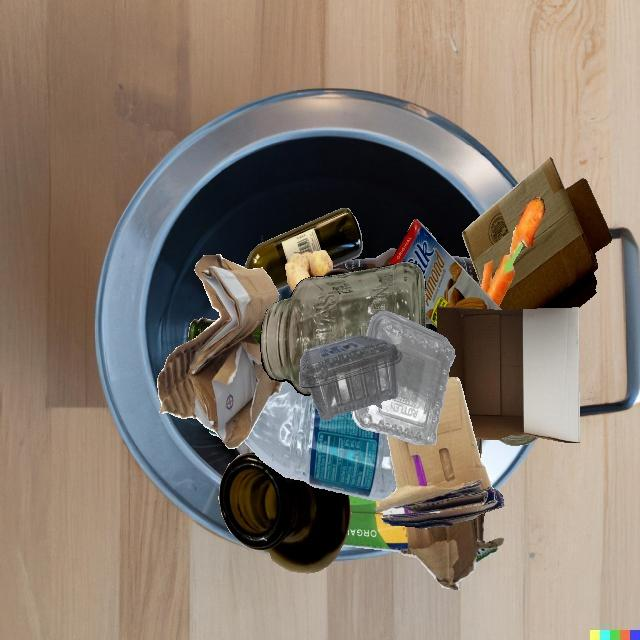biowaste: (481, 197, 545, 307), (285, 250, 333, 292)
cardboard: (157, 254, 284, 449), (462, 157, 612, 310), (376, 377, 505, 529), (437, 306, 579, 442), (342, 495, 505, 590), (388, 219, 501, 329)
glass: (260, 261, 426, 395), (219, 452, 351, 573), (243, 208, 363, 290), (337, 268, 481, 316), (333, 248, 397, 270), (188, 318, 216, 341), (498, 434, 539, 446), (323, 267, 367, 277), (252, 325, 262, 344)
plastic: (244, 381, 397, 501), (351, 311, 455, 444), (299, 335, 403, 421)
